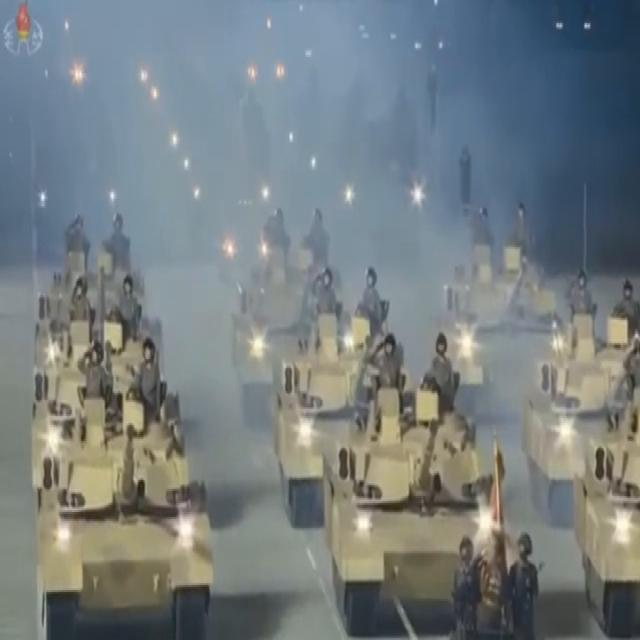north tank: (25, 385, 257, 640), (316, 360, 522, 627), (272, 266, 411, 522), (530, 263, 640, 510), (434, 230, 560, 430), (574, 376, 640, 640)
